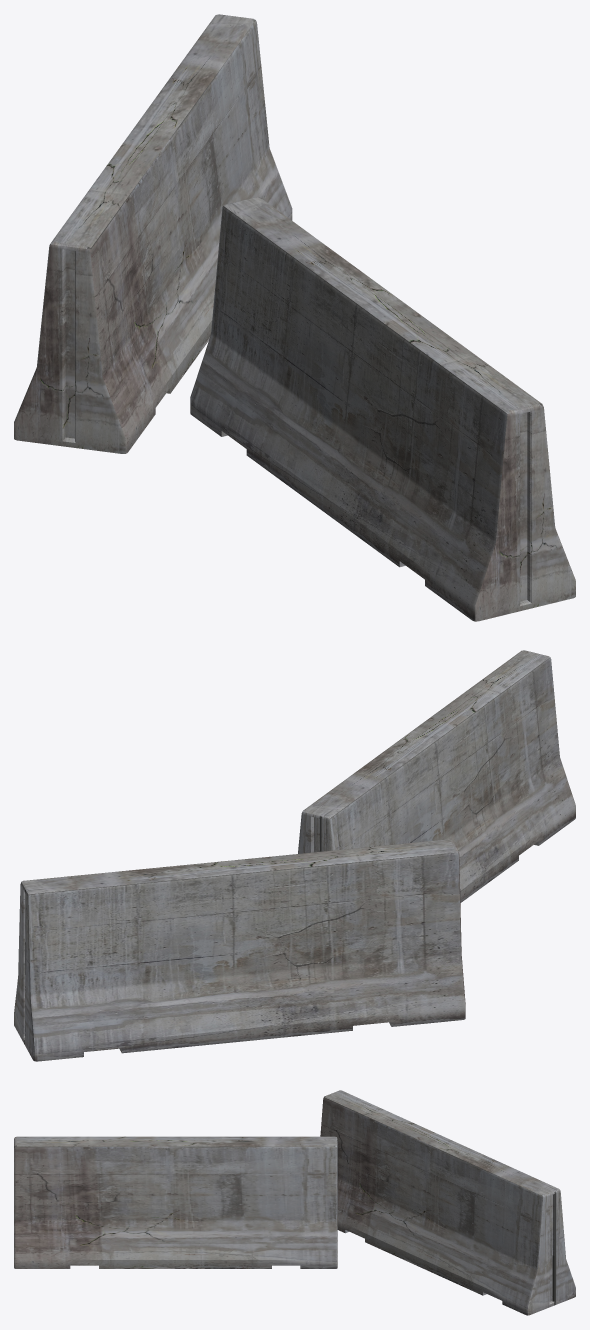
Rendered from City_Barricade002.fbx.
3 renders of one model, top to bottom at view 1: azimuth 30°, elevation 25°; view 2: azimuth 150°, elevation 25°; view 3: azimuth 270°, elevation 25°, orthographic. The views are drawn at different scales.
Parts seen in each view (by area): view 1: City_Barricade_002:Barricade_002; view 2: City_Barricade_002:Barricade_002; view 3: City_Barricade_002:Barricade_002.
Part boxes in pixels (x1,y1,x2,y2): City_Barricade_002:Barricade_002: (14,14,575,621); City_Barricade_002:Barricade_002: (14,650,575,1061); City_Barricade_002:Barricade_002: (14,1090,575,1315).
Size of the model in its own units: 258 by 115 by 517.
1 material, 1 textured.
